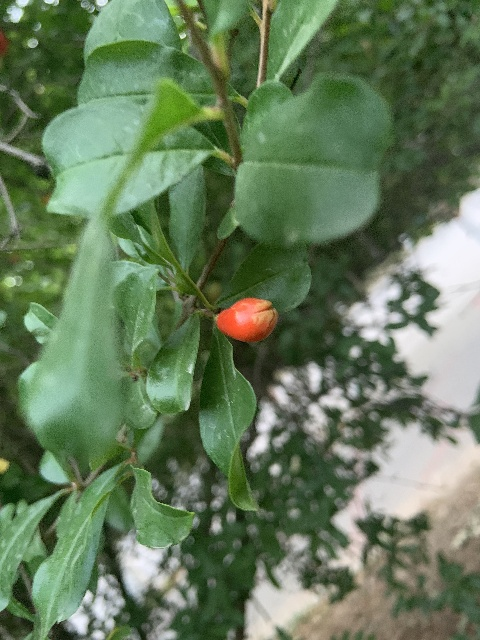bud: (216, 298, 277, 343)
